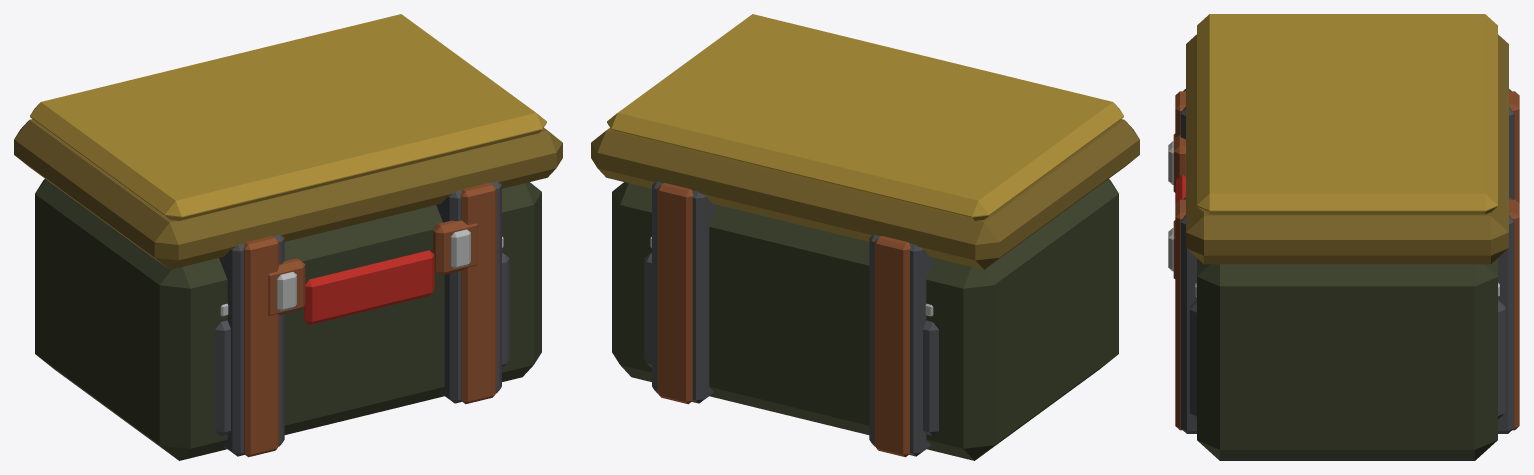
The model's file is loot_boss_cache.fbx.
The picture shows the model from 3 angles, left to right: view 1: azimuth 30°, elevation 25°; view 2: azimuth 150°, elevation 25°; view 3: azimuth 270°, elevation 25°; orthographic projection. The views are drawn at different scales.
Parts seen in each view (by area): view 1: loot_boss_cache; view 2: loot_boss_cache; view 3: loot_boss_cache.
Boxes of the visible parts, bbox=[...] form: loot_boss_cache: bbox=[14, 14, 562, 460]; loot_boss_cache: bbox=[591, 14, 1139, 460]; loot_boss_cache: bbox=[1168, 14, 1519, 460].
Size of the model in its own units: 0.94 by 0.585 by 0.6855.
